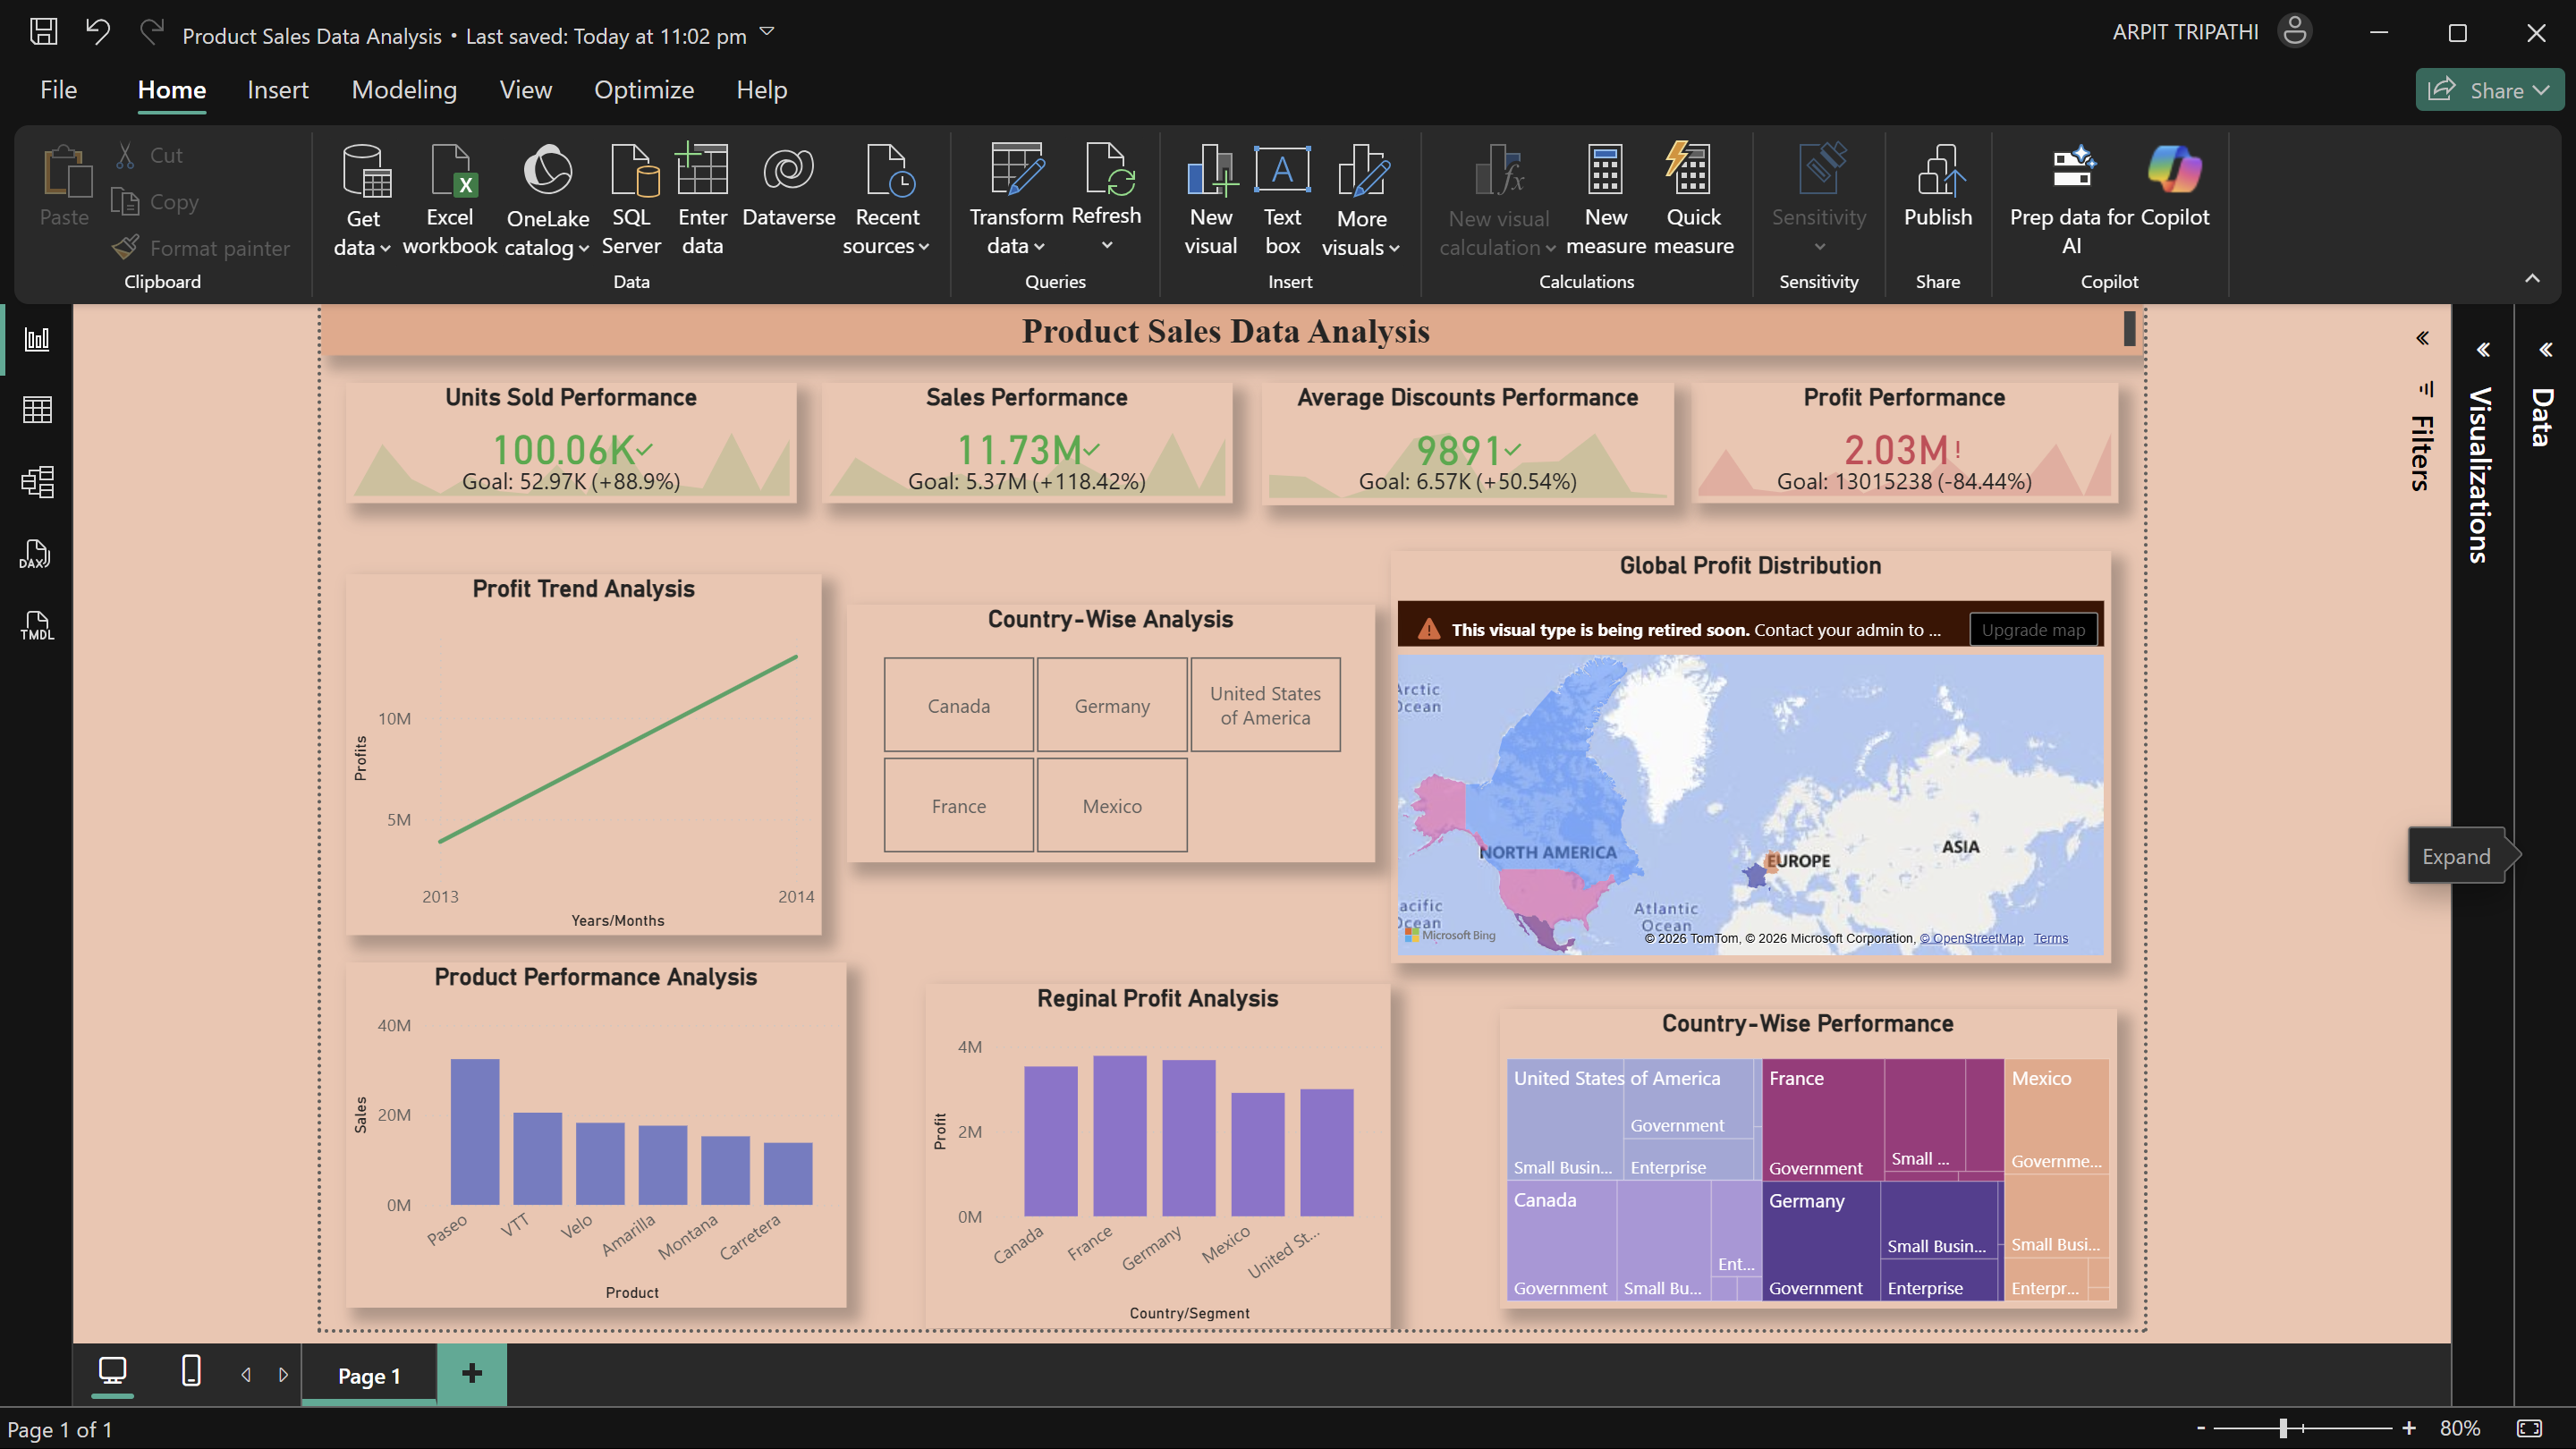

Layout of this report page (visuals, bound fields, positions):
{"tool":"powerbi","page":{"name":"Page 1","canvas":[1280,720],"ordinal":0},"visuals":[{"type":"textbox","box":[0,0,1279.5,35.9],"z":0},{"type":"lineChart","title":" Profit Trend Analysis","fields":{"Category":["Sheet1.Year","Sheet1.Month Name"],"Y":["Sum(Sheet1.Profit)"]},"box":[17.8,190,334,253.7],"z":1000},{"type":"columnChart","title":"Reginal Profit Analysis","fields":{"Category":["Sheet1.Country","Sheet1.Segment"],"Y":["Sum(Sheet1.Profit)"]},"box":[424.5,478.1,326.4,242.2],"z":2000},{"type":"filledMap","title":"Global Profit Distribution","fields":{"Category":["Sheet1.Country"],"Series":["Sheet1.Country"]},"box":[750.9,173.4,506.1,289.4],"z":3000},{"type":"clusteredColumnChart","title":"Product Performance Analysis","fields":{"Category":["Sheet1.Product"],"Y":["Sheet1.Total Sales"]},"box":[17.9,462.8,351.3,242.3],"z":4000},{"type":"treemap","title":"Country-Wise Performance","fields":{"Details":["Sheet1.Segment"],"Group":["Sheet1.Country"],"Values":["Sum(Sheet1.Sales)"]},"box":[828.7,494.7,433.3,210.3],"z":5000},{"type":"kpi","title":"Profit Performance","fields":{"Goal":["Sheet1.Year-To-Date Profit"],"Indicator":["Sum(Sheet1.Profit)"],"TrendLine":["Sheet1.Date"]},"box":[962.8,55.1,300,84.6],"z":7000},{"type":"kpi","title":"Sales Performance ","fields":{"Goal":["Sheet1.Previous Year Sales"],"Indicator":["Sum(Sheet1.Sales)"],"TrendLine":["Sheet1.Date"]},"box":[351.3,55.1,288.5,84.6],"z":8000},{"type":"kpi","title":"Units Sold Performance","fields":{"Goal":["Sheet1.Previous Year Sold"],"Indicator":["Sheet1.Total Units Sold"],"TrendLine":["Sheet1.Date"]},"box":[17.9,55.1,316.7,84.6],"z":9000},{"type":"kpi","title":"Average Discounts Performance","fields":{"Goal":["Sum(Sheet1.Manufacturing Price)"],"Indicator":["Sheet1.Average Discounts"],"TrendLine":["Sheet1.Month Name"]},"box":[661.5,55.1,289.7,85.9],"z":10000},{"type":"slicer","title":"Country-Wise Analysis","fields":{"Values":["Sheet1.Country"]},"box":[369.7,211.6,371,181],"z":10001}]}

Visuals, with their boxes on the page's 1280x720 design canvas (x1, y1, x2, y2). These are canvas units, not pixel positions in the 2576x1449 screenshot, which may show the page scaled, cropped or inside an application window:
textbox: <box>0,0,1280,36</box>
" Profit Trend Analysis" lineChart: <box>18,190,352,444</box>
"Reginal Profit Analysis" columnChart: <box>424,478,751,720</box>
"Global Profit Distribution" filledMap: <box>751,173,1257,463</box>
"Product Performance Analysis" clusteredColumnChart: <box>18,463,369,705</box>
"Country-Wise Performance" treemap: <box>829,495,1262,705</box>
"Profit Performance" kpi: <box>963,55,1263,140</box>
"Sales Performance " kpi: <box>351,55,640,140</box>
"Units Sold Performance" kpi: <box>18,55,335,140</box>
"Average Discounts Performance" kpi: <box>662,55,951,141</box>
"Country-Wise Analysis" slicer: <box>370,212,741,393</box>
